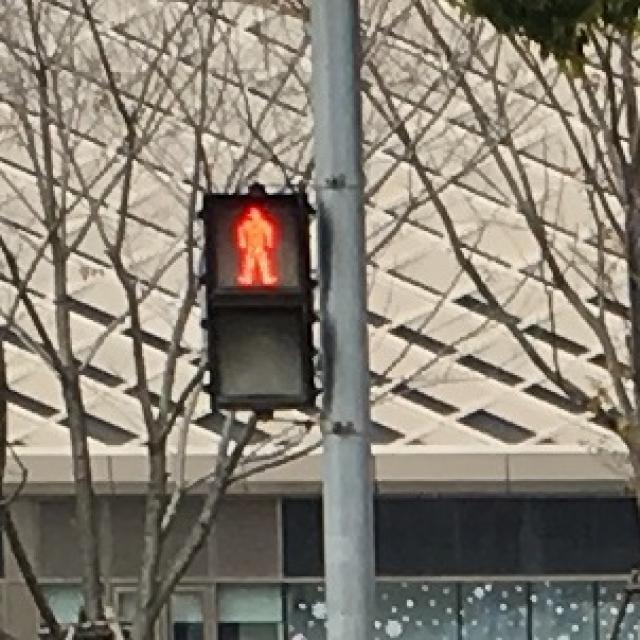red-crossing: (210, 195, 294, 292)
